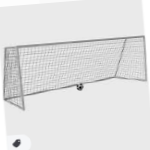goals: (2, 34, 150, 113)
